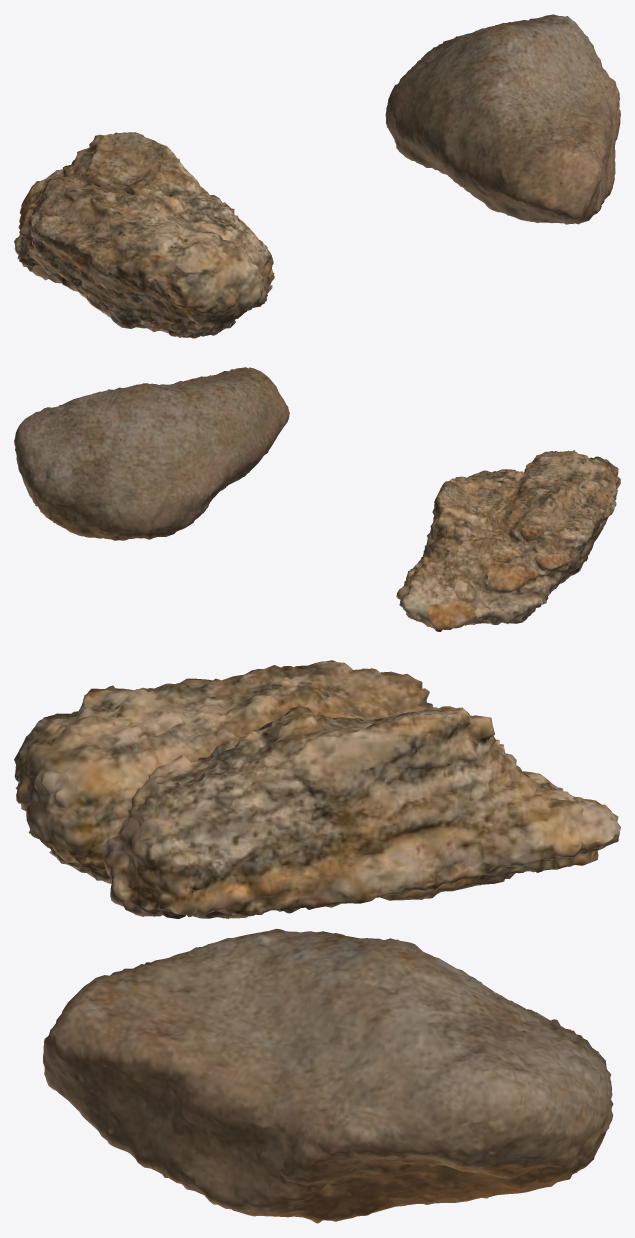
File: namaqualand_boulders_01.glb
The picture shows the model from 3 angles, top to bottom: view 1: azimuth 30°, elevation 25°; view 2: azimuth 150°, elevation 25°; view 3: azimuth 270°, elevation 25°; orthographic projection. The views are drawn at different scales.
Visible parts, largest first — view 1: namaqualand_rocks_01_a, namaqualand_rocks_01_b; view 2: namaqualand_rocks_01_a, namaqualand_rocks_01_b; view 3: namaqualand_rocks_01_a, namaqualand_rocks_01_b.
Part boxes in pixels (<box>): namaqualand_rocks_01_a: <box>385,14,620,224</box>; namaqualand_rocks_01_b: <box>14,132,274,338</box>; namaqualand_rocks_01_a: <box>14,367,289,540</box>; namaqualand_rocks_01_b: <box>396,450,620,631</box>; namaqualand_rocks_01_a: <box>43,928,613,1223</box>; namaqualand_rocks_01_b: <box>14,660,620,918</box>.
Size of the model in its own units: 1.06 by 0.2516 by 0.5864.
1 material, 1 textured.
